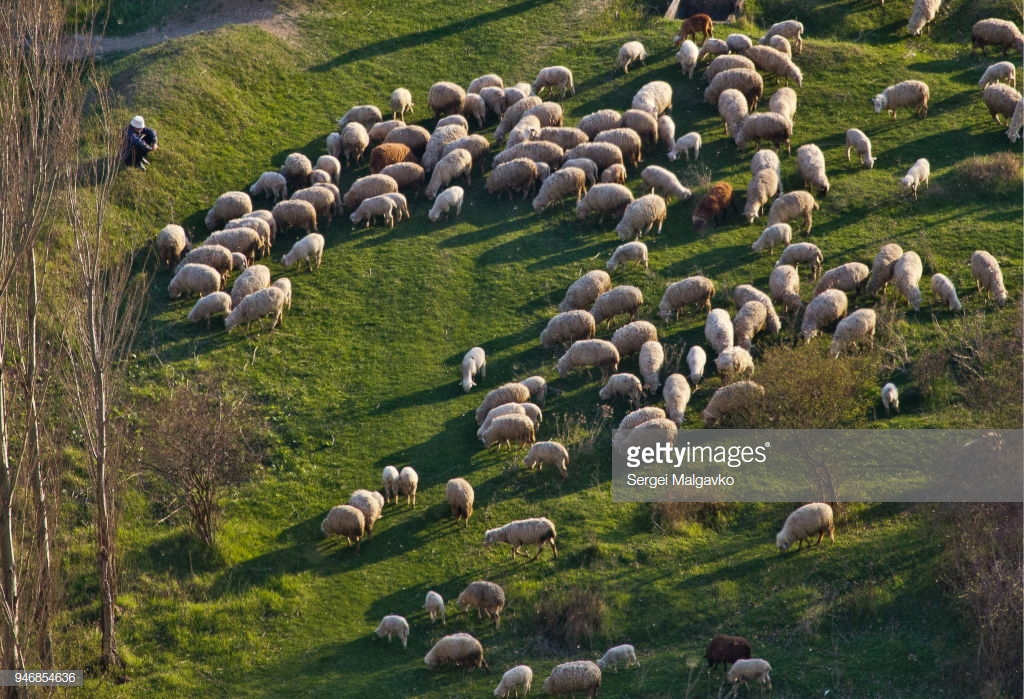sheep: (479, 514, 558, 565), (422, 632, 487, 682), (615, 414, 678, 465), (615, 189, 668, 249), (699, 380, 767, 426), (798, 285, 848, 346), (550, 337, 619, 381), (742, 42, 803, 91), (223, 287, 290, 331), (532, 167, 590, 217), (734, 109, 790, 158), (572, 182, 633, 226), (969, 247, 1010, 312), (539, 657, 602, 699), (828, 307, 879, 358), (589, 283, 644, 330), (767, 189, 819, 238), (423, 149, 471, 202), (700, 66, 763, 106), (740, 167, 784, 224), (456, 574, 505, 625), (872, 80, 932, 121), (482, 415, 536, 460), (473, 383, 530, 425), (660, 275, 715, 318), (540, 309, 596, 351), (557, 268, 611, 311), (341, 173, 399, 213), (420, 121, 471, 166), (715, 86, 752, 148), (640, 163, 693, 206), (866, 240, 903, 300), (484, 158, 538, 199), (492, 140, 561, 172), (894, 247, 925, 317), (205, 189, 253, 233), (814, 262, 869, 300), (285, 229, 328, 277), (287, 184, 336, 226), (796, 140, 832, 197), (768, 264, 805, 319), (606, 321, 662, 357), (317, 506, 367, 546), (154, 220, 192, 272), (564, 140, 626, 171), (348, 196, 396, 235), (662, 372, 695, 428), (733, 299, 767, 353), (185, 291, 232, 330), (774, 242, 823, 279), (523, 440, 569, 478), (757, 21, 806, 56), (492, 664, 540, 699), (704, 303, 736, 355), (621, 105, 661, 146), (425, 81, 468, 119), (339, 117, 371, 168), (443, 476, 475, 526), (349, 486, 381, 536), (929, 271, 964, 316), (531, 65, 576, 100), (336, 101, 383, 134), (636, 338, 663, 395), (606, 239, 649, 274), (459, 345, 489, 393), (426, 184, 466, 220), (843, 125, 876, 168), (751, 222, 792, 256), (249, 171, 290, 205), (613, 38, 651, 74), (900, 155, 931, 199), (682, 342, 706, 388), (279, 150, 313, 182), (675, 36, 699, 80), (693, 34, 727, 65), (669, 131, 702, 162), (379, 463, 400, 507), (390, 84, 414, 121), (399, 466, 419, 509), (726, 32, 755, 56)
